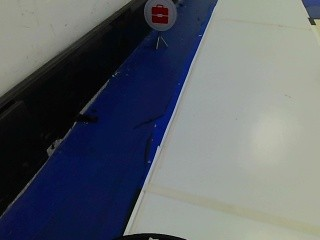company: (143, 1, 176, 31)
